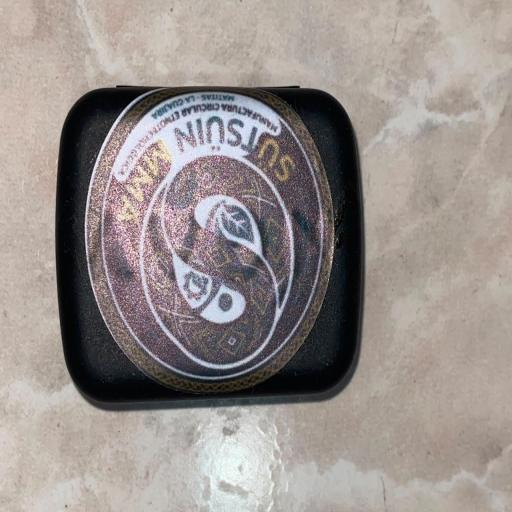HDPE: (0, 0, 512, 511), (55, 85, 366, 410)
